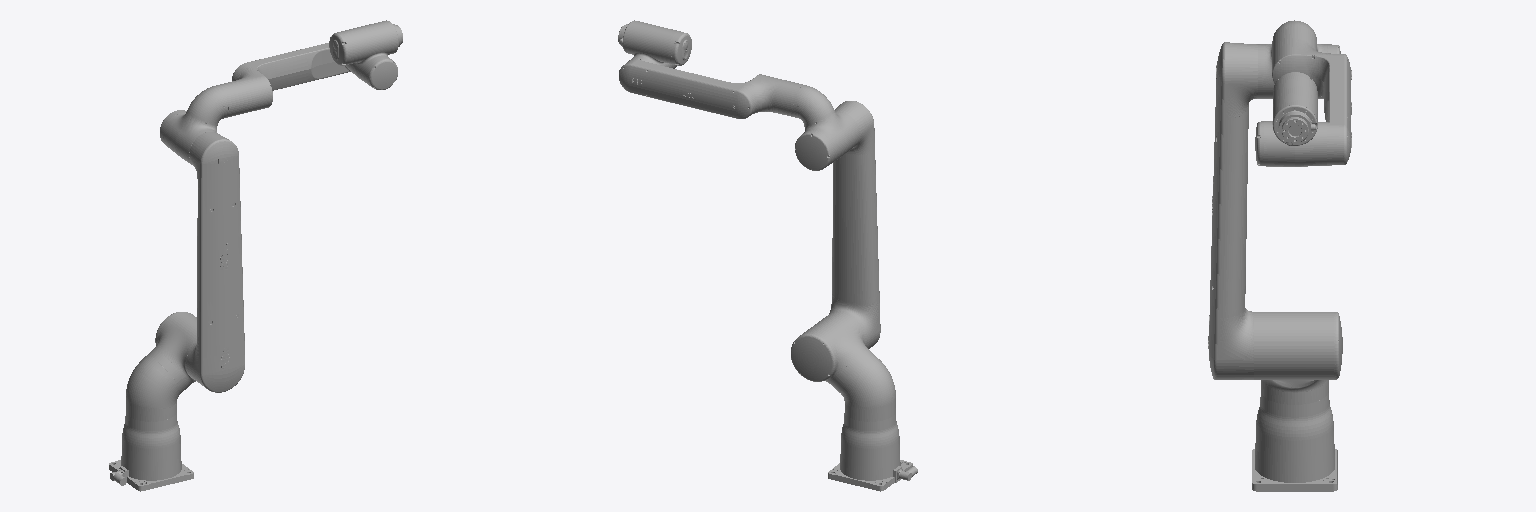
robot.urdf — robotarm:
<?xml version="1.0" ?>
<!-- =================================================================================== -->
<!-- |    This document was autogenerated by xacro from urdf/robotarm.xacro           | -->
<!-- |    EDITING THIS FILE BY HAND IS NOT RECOMMENDED                                 | -->
<!-- =================================================================================== -->
<robot name="robotarm">
  <material name="silver">
    <color rgba="0.700 0.700 0.700 1.000"/>
  </material>
  <transmission name="Revolute 1_tran">
    <type>transmission_interface/SimpleTransmission</type>
    <joint name="Revolute 1">
      <hardwareInterface>hardware_interface/EffortJointInterface</hardwareInterface>
    </joint>
    <actuator name="Revolute 1_actr">
      <hardwareInterface>hardware_interface/EffortJointInterface</hardwareInterface>
      <mechanicalReduction>1</mechanicalReduction>
    </actuator>
  </transmission>
  <transmission name="Revolute 2_tran">
    <type>transmission_interface/SimpleTransmission</type>
    <joint name="Revolute 2">
      <hardwareInterface>hardware_interface/EffortJointInterface</hardwareInterface>
    </joint>
    <actuator name="Revolute 2_actr">
      <hardwareInterface>hardware_interface/EffortJointInterface</hardwareInterface>
      <mechanicalReduction>1</mechanicalReduction>
    </actuator>
  </transmission>
  <transmission name="Revolute 3_tran">
    <type>transmission_interface/SimpleTransmission</type>
    <joint name="Revolute 3">
      <hardwareInterface>hardware_interface/EffortJointInterface</hardwareInterface>
    </joint>
    <actuator name="Revolute 3_actr">
      <hardwareInterface>hardware_interface/EffortJointInterface</hardwareInterface>
      <mechanicalReduction>1</mechanicalReduction>
    </actuator>
  </transmission>
  <transmission name="Revolute 4_tran">
    <type>transmission_interface/SimpleTransmission</type>
    <joint name="Revolute 4">
      <hardwareInterface>hardware_interface/EffortJointInterface</hardwareInterface>
    </joint>
    <actuator name="Revolute 4_actr">
      <hardwareInterface>hardware_interface/EffortJointInterface</hardwareInterface>
      <mechanicalReduction>1</mechanicalReduction>
    </actuator>
  </transmission>
  <transmission name="Revolute 5_tran">
    <type>transmission_interface/SimpleTransmission</type>
    <joint name="Revolute 5">
      <hardwareInterface>hardware_interface/EffortJointInterface</hardwareInterface>
    </joint>
    <actuator name="Revolute 5_actr">
      <hardwareInterface>hardware_interface/EffortJointInterface</hardwareInterface>
      <mechanicalReduction>1</mechanicalReduction>
    </actuator>
  </transmission>
  <transmission name="Revolute 6_tran">
    <type>transmission_interface/SimpleTransmission</type>
    <joint name="Revolute 6">
      <hardwareInterface>hardware_interface/EffortJointInterface</hardwareInterface>
    </joint>
    <actuator name="Revolute 6_actr">
      <hardwareInterface>hardware_interface/EffortJointInterface</hardwareInterface>
      <mechanicalReduction>1</mechanicalReduction>
    </actuator>
  </transmission>
  <gazebo>
    <plugin filename="libgazebo_ros_control.so" name="control"/>
  </gazebo>
  <gazebo reference="base_link">
    <material>Gazebo/Silver</material>
    <mu1>0.2</mu1>
    <mu2>0.2</mu2>
    <self_collide>true</self_collide>
    <gravity>true</gravity>
  </gazebo>
  <gazebo reference="gofaLink1_1">
    <material>Gazebo/Silver</material>
    <mu1>0.2</mu1>
    <mu2>0.2</mu2>
    <self_collide>true</self_collide>
  </gazebo>
  <gazebo reference="gofaLink2_1">
    <material>Gazebo/Silver</material>
    <mu1>0.2</mu1>
    <mu2>0.2</mu2>
    <self_collide>true</self_collide>
  </gazebo>
  <gazebo reference="gofaLink3_1">
    <material>Gazebo/Silver</material>
    <mu1>0.2</mu1>
    <mu2>0.2</mu2>
    <self_collide>true</self_collide>
  </gazebo>
  <gazebo reference="gofaLink4_1">
    <material>Gazebo/Silver</material>
    <mu1>0.2</mu1>
    <mu2>0.2</mu2>
    <self_collide>true</self_collide>
  </gazebo>
  <gazebo reference="gofaLink5_1">
    <material>Gazebo/Silver</material>
    <mu1>0.2</mu1>
    <mu2>0.2</mu2>
    <self_collide>true</self_collide>
  </gazebo>
  <gazebo reference="gofaLink6_1">
    <material>Gazebo/Silver</material>
    <mu1>0.2</mu1>
    <mu2>0.2</mu2>
    <self_collide>true</self_collide>
  </gazebo>
  <link name="base_link">
    <inertial>
      <origin rpy="0 0 0" xyz="-0.0011656606666003504 -0.00011127786600189595 0.0985691713362607"/>
      <mass value="43.321834194728716"/>
      <inertia ixx="0.254824" ixy="-0.000567" ixz="-0.003894" iyy="0.26074" iyz="-0.000372" izz="0.191484"/>
    </inertial>
    <visual>
      <origin rpy="0 0 0" xyz="0 0 0"/>
      <geometry>
        <mesh filename="package://robotarm_pkg/meshes/base_link.stl" scale="0.001 0.001 0.001"/>
      </geometry>
      <material name="silver"/>
    </visual>
    <collision>
      <origin rpy="0 0 0" xyz="0 0 0"/>
      <geometry>
        <mesh filename="package://robotarm_pkg/meshes/base_link.stl" scale="0.001 0.001 0.001"/>
      </geometry>
    </collision>
  </link>
  <link name="gofaLink1_1">
    <inertial>
      <origin rpy="0 0 0" xyz="0.08775396256757084 0.002893616666975796 0.1378283174314958"/>
      <mass value="62.51980324184264"/>
      <inertia ixx="0.432285" ixy="-0.011248" ixz="-0.212957" iyy="0.648762" iyz="-0.008525" izz="0.530762"/>
    </inertial>
    <visual>
      <origin rpy="0 0 0" xyz="0.0 -0.0 -0.214"/>
      <geometry>
        <mesh filename="package://robotarm_pkg/meshes/gofaLink1_1.stl" scale="0.001 0.001 0.001"/>
      </geometry>
      <material name="silver"/>
    </visual>
    <collision>
      <origin rpy="0 0 0" xyz="0.0 -0.0 -0.214"/>
      <geometry>
        <mesh filename="package://robotarm_pkg/meshes/gofaLink1_1.stl" scale="0.001 0.001 0.001"/>
      </geometry>
    </collision>
  </link>
  <link name="gofaLink2_1">
    <inertial>
      <origin rpy="0 0 0" xyz="0.31995365374658724 -0.054321420061314976 -2.7314906564379626e-07"/>
      <mass value="70.93354798589776"/>
      <inertia ixx="0.149369" ixy="-0.067787" ixz="-0.0" iyy="4.624741" iyz="-0.0" izz="4.56467"/>
    </inertial>
    <visual>
      <origin rpy="0 0 0" xyz="-0.15 0.09515 -0.399"/>
      <geometry>
        <mesh filename="package://robotarm_pkg/meshes/gofaLink2_1.stl" scale="0.001 0.001 0.001"/>
      </geometry>
      <material name="silver"/>
    </visual>
    <collision>
      <origin rpy="0 0 0" xyz="-0.15 0.09515 -0.399"/>
      <geometry>
        <mesh filename="package://robotarm_pkg/meshes/gofaLink2_1.stl" scale="0.001 0.001 0.001"/>
      </geometry>
    </collision>
  </link>
  <link name="gofaLink3_1">
    <inertial>
      <origin rpy="0 0 0" xyz="0.012899169796362742 0.09273702866323792 0.02490709910095318"/>
      <mass value="26.381731962599428"/>
      <inertia ixx="0.13578" ixy="0.002633" ixz="-0.024959" iyy="0.109622" iyz="0.005085" izz="0.102204"/>
    </inertial>
    <visual>
      <origin rpy="0 0 0" xyz="-0.857 0.0853 -0.399"/>
      <geometry>
        <mesh filename="package://robotarm_pkg/meshes/gofaLink3_1.stl" scale="0.001 0.001 0.001"/>
      </geometry>
      <material name="silver"/>
    </visual>
    <collision>
      <origin rpy="0 0 0" xyz="-0.857 0.0853 -0.399"/>
      <geometry>
        <mesh filename="package://robotarm_pkg/meshes/gofaLink3_1.stl" scale="0.001 0.001 0.001"/>
      </geometry>
    </collision>
  </link>
  <link name="gofaLink4_1">
    <inertial>
      <origin rpy="0 0 0" xyz="0.24142600169891282 0.06277136599401421 -6.660927853729959e-08"/>
      <mass value="32.07373529182173"/>
      <inertia ixx="0.109104" ixy="-0.193212" ixz="1e-06" iyy="0.893836" iyz="0.0" izz="0.956574"/>
    </inertial>
    <visual>
      <origin rpy="0 0 0" xyz="-0.953 0.0003 -0.509"/>
      <geometry>
        <mesh filename="package://robotarm_pkg/meshes/gofaLink4_1.stl" scale="0.001 0.001 0.001"/>
      </geometry>
      <material name="silver"/>
    </visual>
    <collision>
      <origin rpy="0 0 0" xyz="-0.953 0.0003 -0.509"/>
      <geometry>
        <mesh filename="package://robotarm_pkg/meshes/gofaLink4_1.stl" scale="0.001 0.001 0.001"/>
      </geometry>
    </collision>
  </link>
  <link name="gofaLink5_1">
    <inertial>
      <origin rpy="0 0 0" xyz="-0.01471488169844859 -0.07856679038657811 0.04275415132694682"/>
      <mass value="23.63754712652309"/>
      <inertia ixx="0.089965" ixy="0.001415" ixz="0.012969" iyy="0.106463" iyz="-0.004125" izz="0.085163"/>
    </inertial>
    <visual>
      <origin rpy="0 0 0" xyz="-1.492883 -0.0752 -0.509"/>
      <geometry>
        <mesh filename="package://robotarm_pkg/meshes/gofaLink5_1.stl" scale="0.001 0.001 0.001"/>
      </geometry>
      <material name="silver"/>
    </visual>
    <collision>
      <origin rpy="0 0 0" xyz="-1.492883 -0.0752 -0.509"/>
      <geometry>
        <mesh filename="package://robotarm_pkg/meshes/gofaLink5_1.stl" scale="0.001 0.001 0.001"/>
      </geometry>
    </collision>
  </link>
  <link name="gofaLink6_1">
    <inertial>
      <origin rpy="0 0 0" xyz="0.012750653728679673 0.0002398166174549805 -0.00034201577003445394"/>
      <mass value="1.1500367477209656"/>
      <inertia ixx="0.001012" ixy="-1e-06" ixz="1e-06" iyy="0.000597" iyz="-5e-06" izz="0.000601"/>
    </inertial>
    <visual>
      <origin rpy="0 0 0" xyz="-1.560883 -0.0007 -0.589"/>
      <geometry>
        <mesh filename="package://robotarm_pkg/meshes/gofaLink6_1.stl" scale="0.001 0.001 0.001"/>
      </geometry>
      <material name="silver"/>
    </visual>
    <collision>
      <origin rpy="0 0 0" xyz="-1.560883 -0.0007 -0.589"/>
      <geometry>
        <mesh filename="package://robotarm_pkg/meshes/gofaLink6_1.stl" scale="0.001 0.001 0.001"/>
      </geometry>
    </collision>
  </link>
  <joint name="Revolute 1" type="revolute">
    <origin rpy="0 0 0" xyz="0.0 0.0 0.214"/>
    <parent link="base_link"/>
    <child link="gofaLink1_1"/>
    <axis xyz="-0.0 0.0 1.0"/>
    <limit lower="-4.712389" upper="4.712389" velocity="3.054" effort="100.0"/>
  </joint>
  <joint name="Revolute 2" type="revolute">
    <origin rpy="0 -1.5707963268 0" xyz="0.15 -0.09515 0.185"/>
    <parent link="gofaLink1_1"/>
    <child link="gofaLink2_1"/>
    <axis xyz="0.0 1.0 -0.0"/>
    <limit lower="-3.1416" upper="3.1416" velocity="3.054" effort="100.0"/>
  </joint>
  <joint name="Revolute 3" type="revolute">
    <origin rpy="0 1.5707963268 0" xyz="0.707 0.00985 0.0"/>
    <parent link="gofaLink2_1"/>
    <child link="gofaLink3_1"/>
    <axis xyz="0.0 1.0 -0.0"/>
    <limit lower="-3.9270" upper="1.48353" velocity="3.054" effort="100.0"/>
  </joint>
  <joint name="Revolute 4" type="revolute">
    <origin rpy="0 0 0" xyz="0.096 0.085 0.11"/>
    <parent link="gofaLink3_1"/>
    <child link="gofaLink4_1"/>
    <axis xyz="1.0 -0.0 0.0"/>
    <limit lower="-3.1416" upper="3.1416" velocity="3.054" effort="100.0"/>
  </joint>
  <joint name="Revolute 5" type="revolute">
    <origin rpy="0 0 0" xyz="0.539883 0.0755 0.0"/>
    <parent link="gofaLink4_1"/>
    <child link="gofaLink5_1"/>
    <axis xyz="-0.0 1.0 -0.0"/>
    <limit lower="-3.1416" upper="3.1416" velocity="3.054" effort="100.0"/>
  </joint>
  <joint name="Revolute 6" type="revolute">
    <origin rpy="0 0 0" xyz="0.068 -0.0745 0.08"/>
    <parent link="gofaLink5_1"/>
    <child link="gofaLink6_1"/>
    <axis xyz="1.0 -0.0 -0.0"/>
    <limit lower="-4.7124" upper="4.7124" velocity="3.054" effort="100.0"/>
  </joint>
  <link name="tool0"/>
  <joint name="joint_tool0" type="fixed">
    <origin xyz="0.033 0 0" rpy="0 1.5708 0"/>
    <parent link="gofaLink6_1"/>
    <child link="tool0"/>
  </joint>
</robot>

--- Facts derived from the render (not from the file) ---
3 views of the same robot in one strip: view 1: azimuth 30°, elevation 25°; view 2: azimuth 150°, elevation 25°; view 3: azimuth 270°, elevation 25° (orthographic).
Robot: robotarm — 8 links, 7 joints (6 revolute, 1 fixed); root link base_link; default pose: all joints at 0.
Visible links, largest first — view 1: gofaLink2_1, gofaLink1_1, gofaLink4_1, base_link, gofaLink5_1, gofaLink3_1; view 2: gofaLink2_1, gofaLink1_1, gofaLink4_1, base_link, gofaLink3_1, gofaLink5_1; view 3: gofaLink2_1, gofaLink1_1, base_link, gofaLink4_1, gofaLink5_1, gofaLink6_1, gofaLink3_1.
Boxes of the visible links, left/top/right/bottom form: gofaLink2_1: left=186, top=132, right=244, bottom=392; gofaLink1_1: left=126, top=312, right=196, bottom=421; gofaLink4_1: left=218, top=43, right=350, bottom=118; base_link: left=109, top=413, right=193, bottom=491; gofaLink5_1: left=329, top=21, right=397, bottom=89; gofaLink3_1: left=160, top=85, right=227, bottom=164; gofaLink2_1: left=829, top=101, right=880, bottom=348; gofaLink1_1: left=791, top=312, right=895, bottom=421; gofaLink4_1: left=619, top=59, right=802, bottom=118; base_link: left=828, top=413, right=917, bottom=491; gofaLink3_1: left=793, top=85, right=859, bottom=170; gofaLink5_1: left=624, top=21, right=691, bottom=68; gofaLink2_1: left=1208, top=42, right=1257, bottom=379; gofaLink1_1: left=1254, top=312, right=1342, bottom=404; base_link: left=1252, top=393, right=1337, bottom=491; gofaLink4_1: left=1272, top=26, right=1351, bottom=165; gofaLink5_1: left=1255, top=72, right=1326, bottom=166; gofaLink6_1: left=1273, top=105, right=1317, bottom=145; gofaLink3_1: left=1258, top=20, right=1340, bottom=98.
Bounding box of the posed robot: 1.03 × 0.3354 × 1.35 m (x, y, z).
Meshes: 7 distinct files referenced, 7 mesh visuals loaded (7 binary STL).
